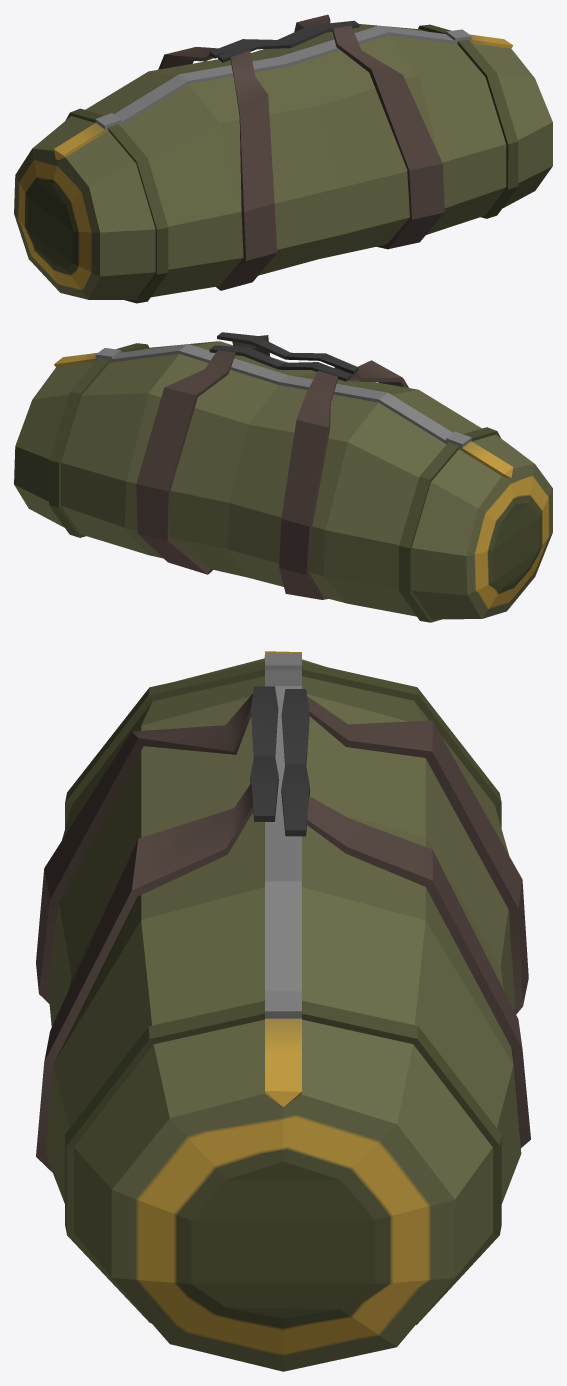
The model's file is model_bag_01.fbx.
3 renders of one model, top to bottom at view 1: azimuth 30°, elevation 25°; view 2: azimuth 150°, elevation 25°; view 3: azimuth 270°, elevation 25°, orthographic. The views are drawn at different scales.
Parts seen in each view (by area): view 1: model_bag_01; view 2: model_bag_01; view 3: model_bag_01.
Part boxes in pixels (<box>): model_bag_01: <box>14,14,552,303</box>; model_bag_01: <box>14,332,552,622</box>; model_bag_01: <box>36,651,530,1371</box>.
Bounding box in the file's own units: 107 × 48.55 × 49.19.
1 material, 1 textured.
